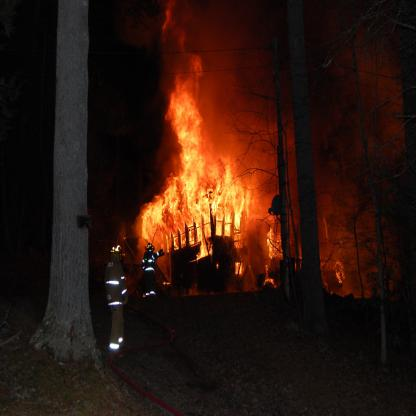fire: (136, 56, 271, 264)
